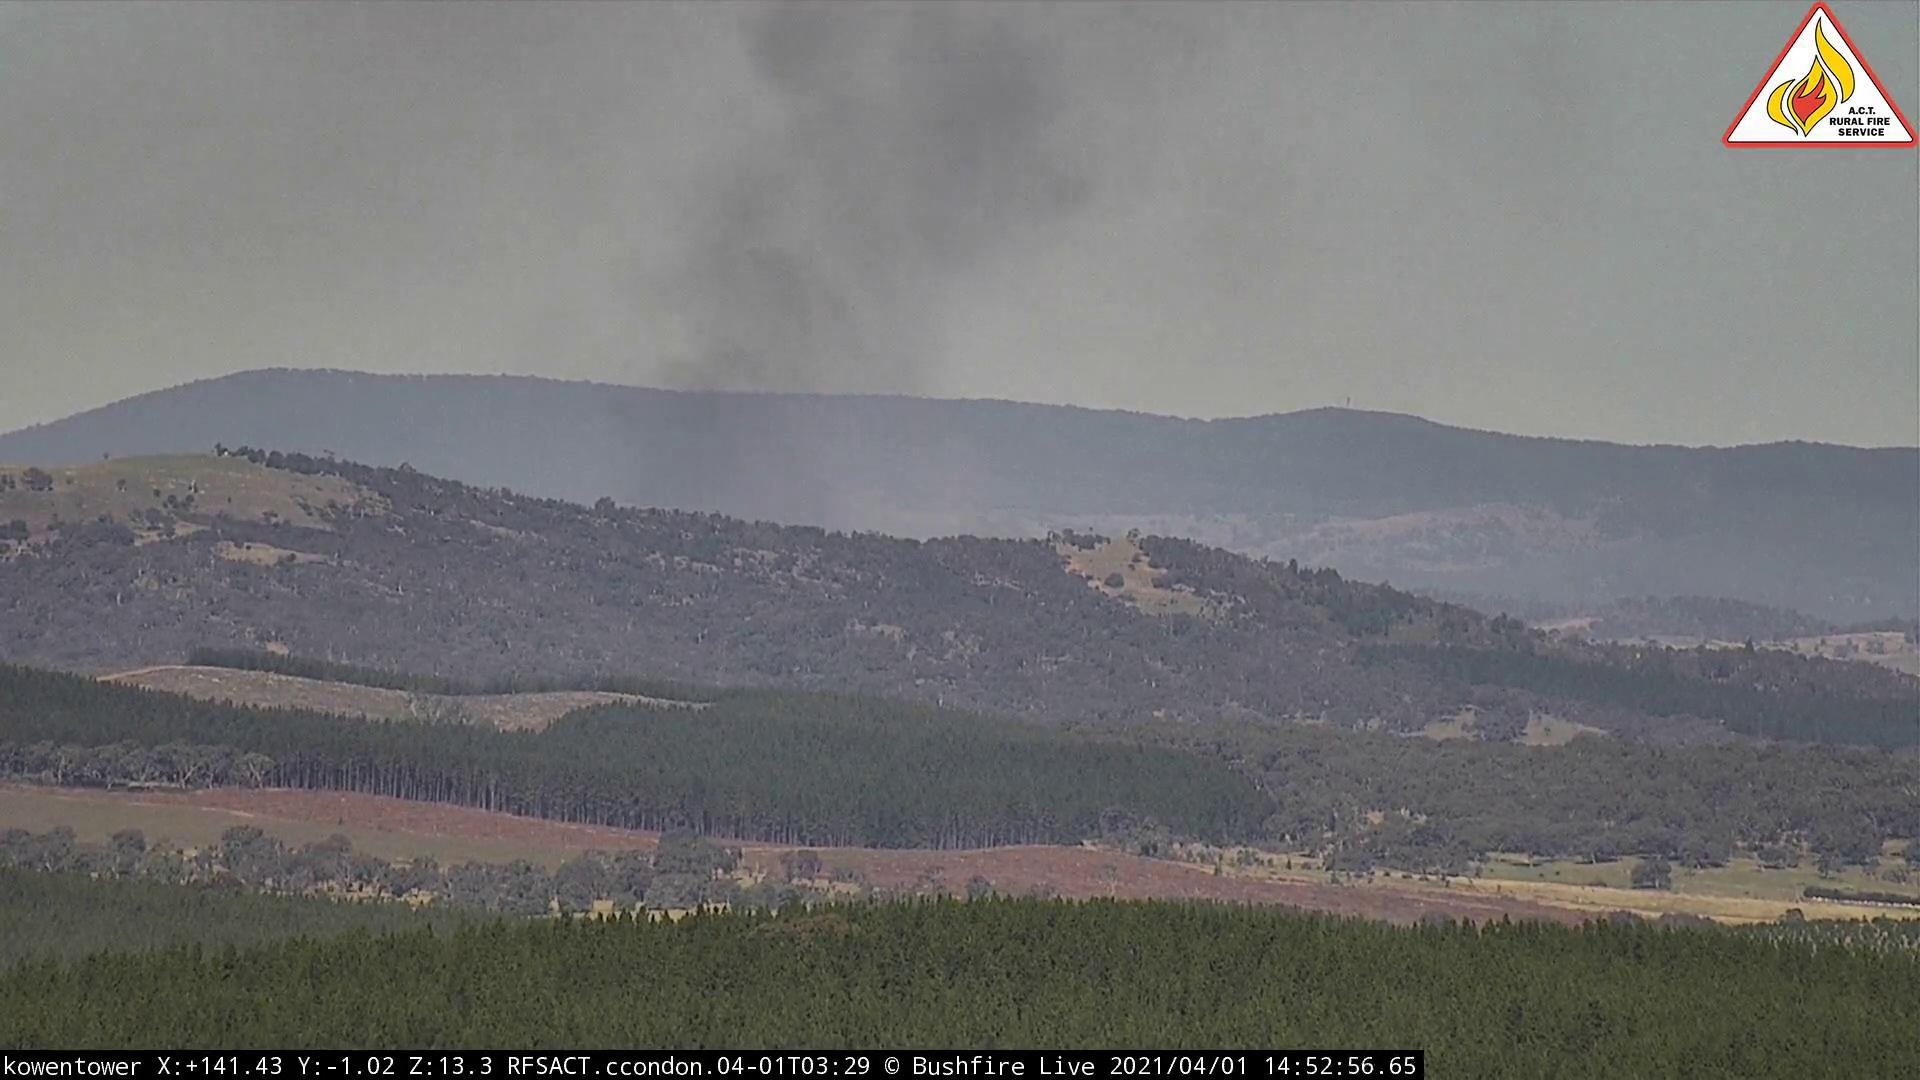Smoke: (529, 3, 1215, 555)
